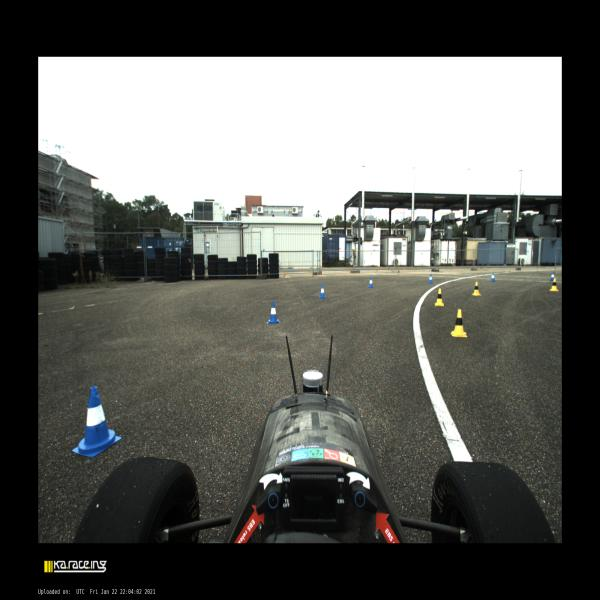blue_cone: (72, 386, 121, 457), (267, 302, 280, 324), (319, 284, 326, 298), (368, 277, 373, 288), (490, 272, 495, 282), (428, 274, 433, 283), (550, 272, 554, 281)
yellow_cone: (451, 310, 467, 338), (435, 289, 444, 306), (549, 278, 559, 291), (472, 282, 481, 296)
